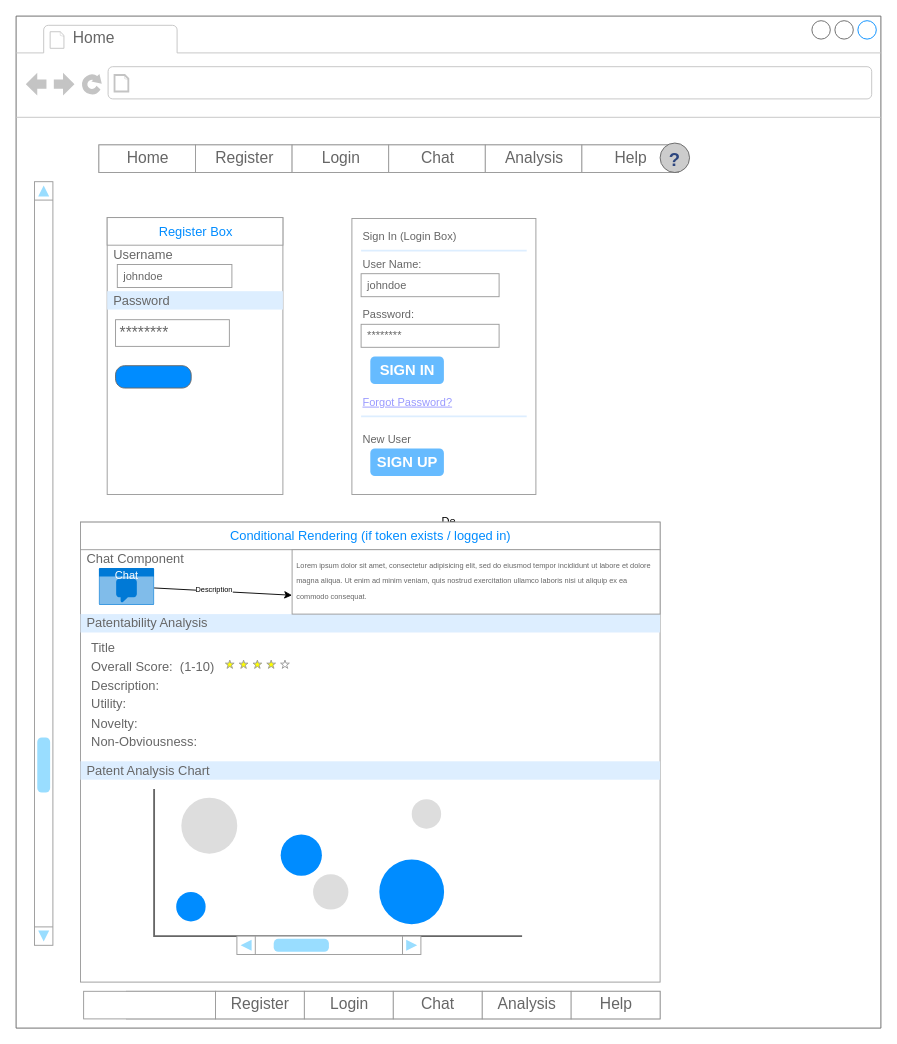
This 897x1044 diagram has some shape labels left out. Each missing label, with the centre of its shape:
Home(Footer): (149,1004)
https://www.patent-managemen.go: (250,82)
Submit: (153,376)
